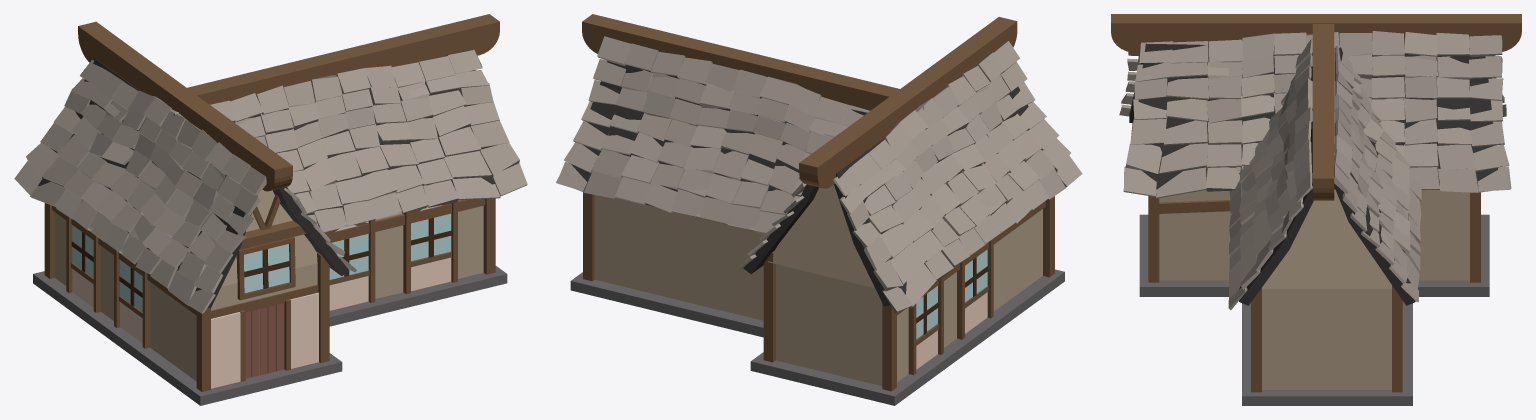
Rendered from House_2.fbx.
The picture shows the model from 3 angles, left to right: view 1: azimuth 30°, elevation 25°; view 2: azimuth 150°, elevation 25°; view 3: azimuth 270°, elevation 25°; orthographic projection. The views are drawn at different scales.
Parts seen in each view (by area): view 1: Cube.068; view 2: Cube.068; view 3: Cube.068.
Part boxes in pixels (box(x1,y1,x2,y2)): Cube.068: box(14, 14, 527, 405); Cube.068: box(556, 14, 1082, 405); Cube.068: box(1111, 14, 1521, 405).
Bounding box in the file's own units: 1579 × 888 × 1369.
